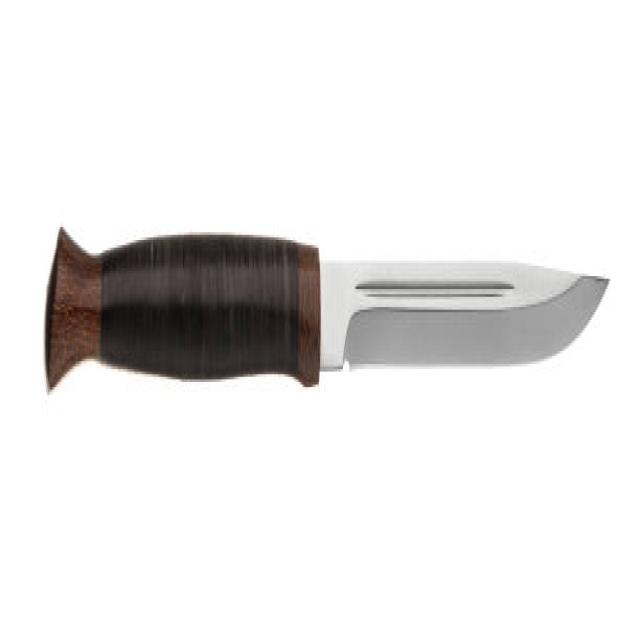knife: (43, 217, 612, 401)
